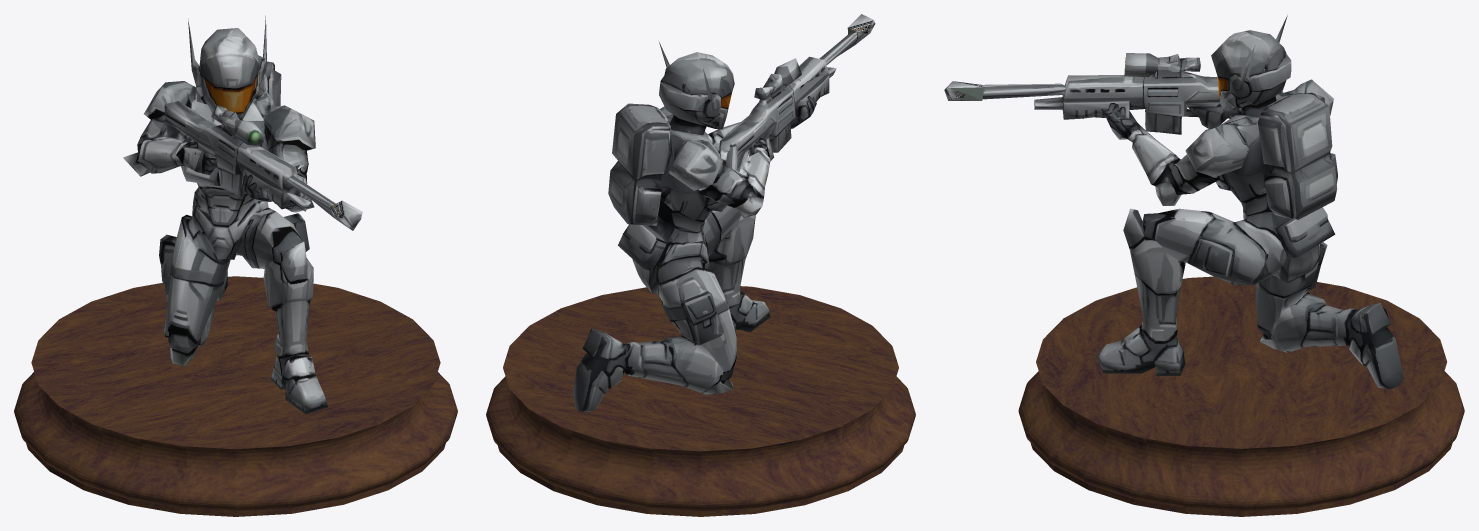
Rendered from scoper.glb.
The picture shows the model from 3 angles, left to right: view 1: azimuth 30°, elevation 25°; view 2: azimuth 150°, elevation 25°; view 3: azimuth 270°, elevation 25°; orthographic projection. The views are drawn at different scales.
Parts seen in each view (by area): view 1: BézierCurve, tripo_node_592e4fe8-94a8-4d7c-9616-8e86fc2a7d05; view 2: BézierCurve, tripo_node_592e4fe8-94a8-4d7c-9616-8e86fc2a7d05; view 3: BézierCurve, tripo_node_592e4fe8-94a8-4d7c-9616-8e86fc2a7d05.
Part boxes in pixels (bbox=[...]): BézierCurve: bbox=[14, 276, 457, 516]; tripo_node_592e4fe8-94a8-4d7c-9616-8e86fc2a7d05: bbox=[123, 15, 362, 413]; BézierCurve: bbox=[486, 286, 915, 516]; tripo_node_592e4fe8-94a8-4d7c-9616-8e86fc2a7d05: bbox=[573, 14, 875, 411]; BézierCurve: bbox=[1018, 276, 1464, 516]; tripo_node_592e4fe8-94a8-4d7c-9616-8e86fc2a7d05: bbox=[944, 15, 1403, 388].
Size of the model in its own units: 0.9545 by 0.9439 by 1.11.
2 materials, 2 textured.
